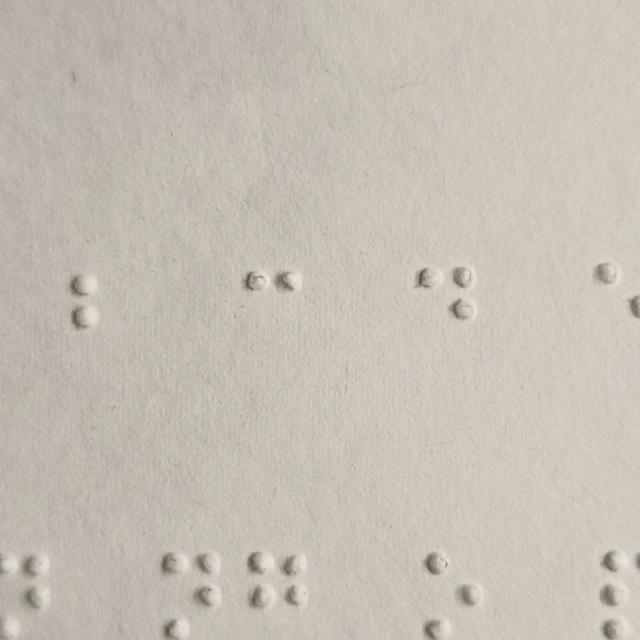letter_b: (71, 272, 133, 359)
letter_c: (243, 267, 304, 353)
letter_d: (415, 267, 476, 353)
letter_g: (248, 553, 309, 639)
letter_n: (162, 553, 224, 640)
letter_o: (422, 554, 483, 640)
